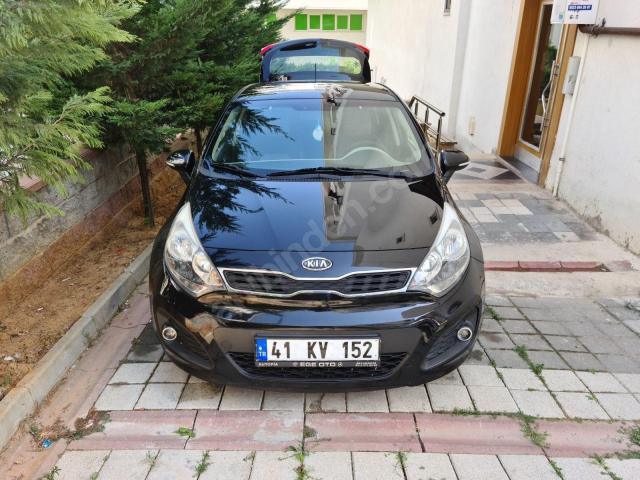plaka: (255, 337, 380, 366)
